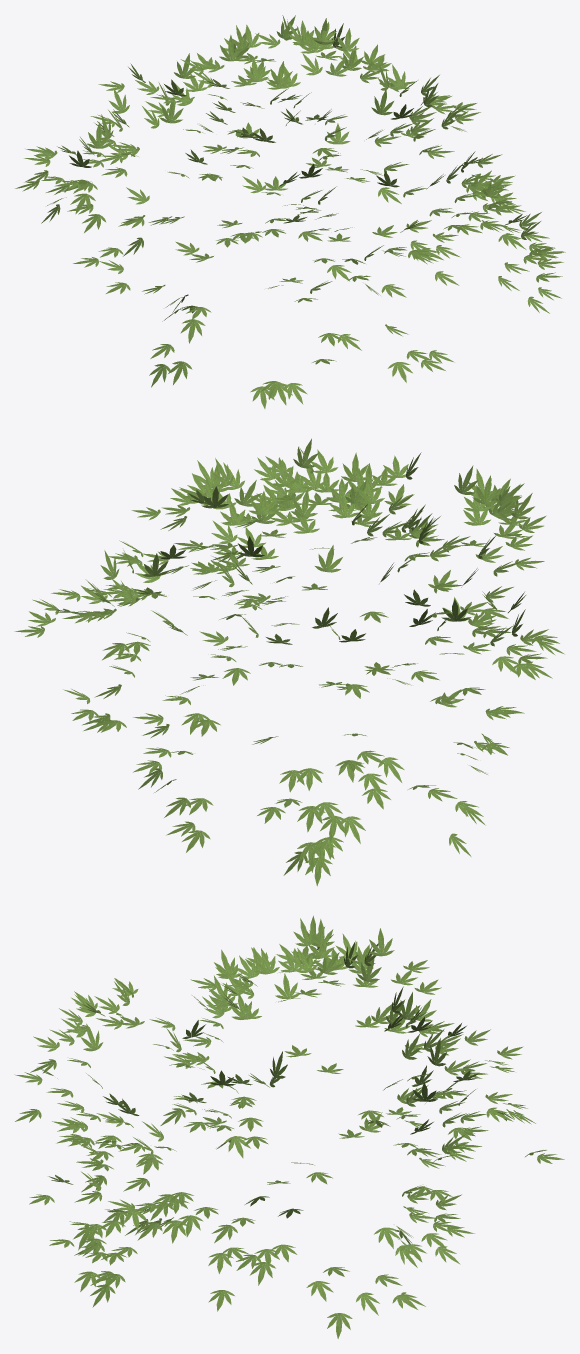
The model's file is basic_terrain_v3_leaves_003.dae.
The picture shows the model from 3 angles, top to bottom: view 1: azimuth 30°, elevation 25°; view 2: azimuth 150°, elevation 25°; view 3: azimuth 270°, elevation 25°; orthographic projection. The views are drawn at different scales.
Parts seen in each view (by area): view 1: leaves_001.001; view 2: leaves_001.001; view 3: leaves_001.001.
Part boxes in pixels (box(x1,y1,x2,y2)): leaves_001.001: box(15, 15, 565, 408); leaves_001.001: box(14, 438, 564, 886); leaves_001.001: box(14, 915, 564, 1338).
Bounding box in the file's own units: 6.79 × 7.06 × 4.44.
Materials: 1 (1 with a texture image).
